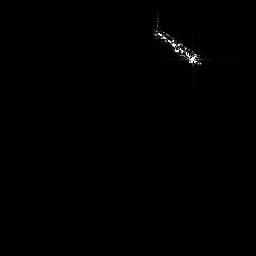ship: (155, 28, 202, 65)
